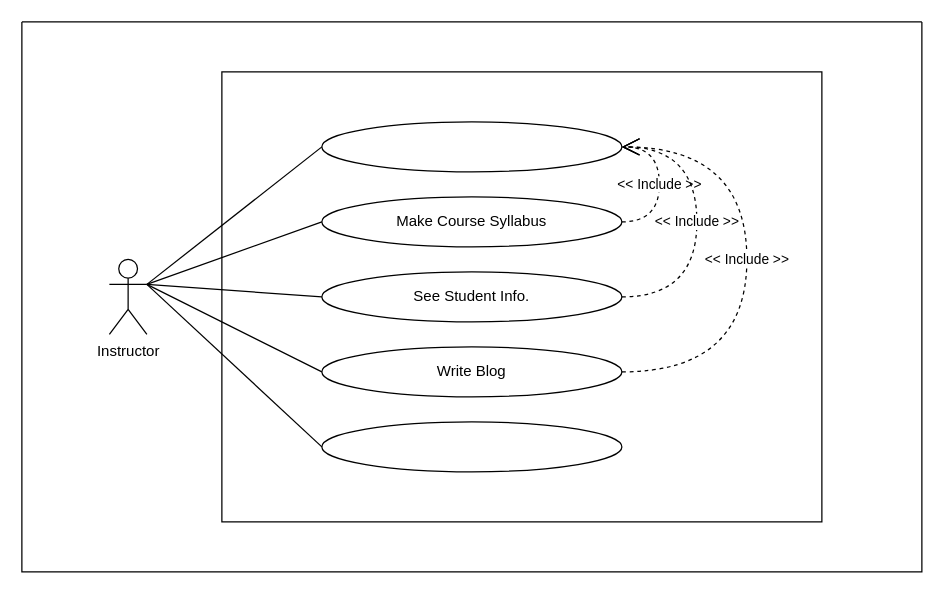
Image size: 944x594. Some labels were removed from this diagram. Here are the shapes that lost their labels. From the top down, the box of each, then its label:
(321, 121, 622, 172): Login
(321, 421, 622, 472): See Feedback
